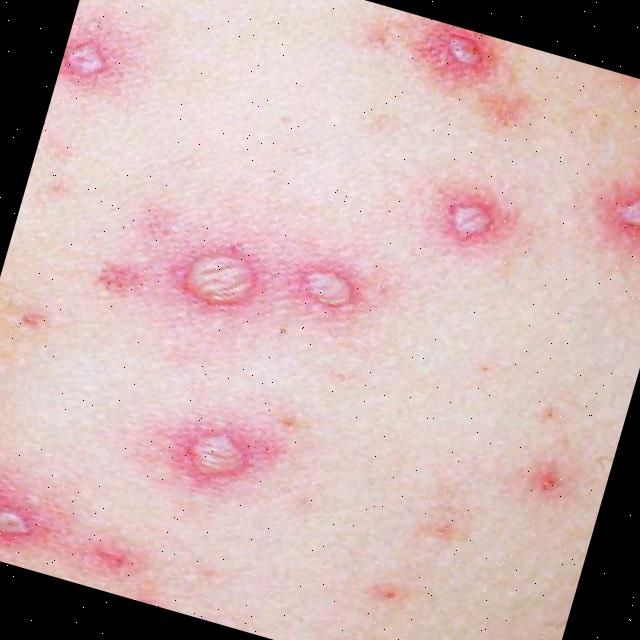kan emici bocekler: (145, 387, 301, 519), (147, 208, 288, 342), (415, 163, 530, 269), (276, 236, 385, 331), (569, 150, 640, 265)
